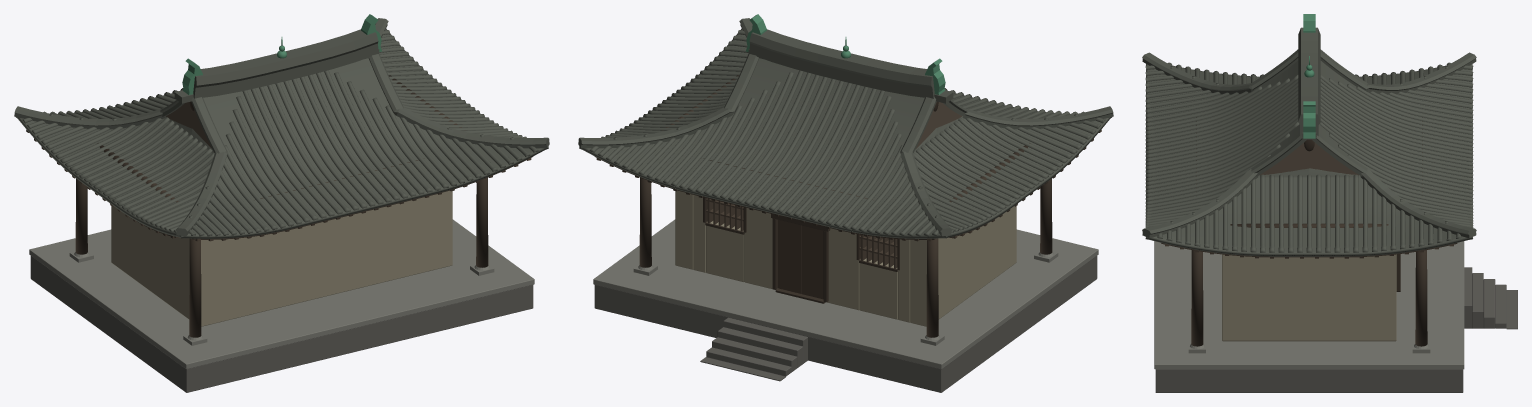
Rendered from wudai-01-tiantaian-mitudian.glb.
3 views of the same model, side by side, from view 1: azimuth 30°, elevation 25°; view 2: azimuth 150°, elevation 25°; view 3: azimuth 270°, elevation 25° (orthographic).
Parts seen in each view (by area): view 1: 屋面_瓦面, 台基_阶条石, 瓦垄_前后坡, 墙_后檐墙, 瓦垄_两山, 台基_台身, 垂脊_戗脊, 正脊, 墙_两山墙, 檐柱_西后, 檐柱_东后, 檐柱_西前 (+3 smaller); view 2: 屋面_瓦面, 台基_阶条石, 瓦垄_前后坡, 瓦垄_两山, 台基_台身, 墙_前檐墙, 墙_两山墙, 垂脊_戗脊, 正脊, 台基_踏跺, 门_门扇, 门_门框 (+8 smaller); view 3: 瓦垄_前后坡, 屋面_瓦面, 台基_阶条石, 墙_两山墙, 瓦垄_两山, 垂脊_戗脊, 台基_台身, 台基_踏跺, 正脊, 山花板_东, 檐柱_东前, 檐柱_东后 (+4 smaller).
Part boxes in pixels (bbox=[...]): 屋面_瓦面: bbox=[16, 28, 548, 238]; 台基_阶条石: bbox=[29, 219, 534, 369]; 瓦垄_前后坡: bbox=[43, 70, 538, 236]; 墙_后檐墙: bbox=[201, 190, 452, 326]; 瓦垄_两山: bbox=[22, 30, 526, 232]; 台基_台身: bbox=[30, 256, 533, 392]; 垂脊_戗脊: bbox=[14, 18, 549, 236]; 正脊: bbox=[193, 29, 378, 98]; 墙_两山墙: bbox=[111, 206, 189, 319]; 檐柱_西后: bbox=[189, 238, 201, 337]; 檐柱_东后: bbox=[476, 177, 488, 267]; 檐柱_西前: bbox=[75, 178, 87, 254]; 屋面_瓦面: bbox=[579, 28, 1111, 238]; 台基_阶条石: bbox=[593, 219, 1098, 369]; 瓦垄_前后坡: bbox=[589, 70, 1084, 236]; 瓦垄_两山: bbox=[601, 30, 1105, 232]; 台基_台身: bbox=[594, 256, 1097, 392]; 墙_前檐墙: bbox=[693, 195, 910, 322]; 墙_两山墙: bbox=[675, 190, 1016, 326]; 垂脊_戗脊: bbox=[578, 18, 1113, 236]; 正脊: bbox=[749, 29, 934, 98]; 台基_踏跺: bbox=[700, 317, 807, 381]; 门_门扇: bbox=[778, 219, 823, 299]; 门_门框: bbox=[771, 214, 830, 303]; 瓦垄_前后坡: bbox=[1145, 65, 1473, 227]; 屋面_瓦面: bbox=[1145, 61, 1472, 256]; 台基_阶条石: bbox=[1154, 241, 1464, 369]; 墙_两山墙: bbox=[1222, 254, 1396, 341]; 瓦垄_两山: bbox=[1157, 62, 1461, 252]; 垂脊_戗脊: bbox=[1142, 49, 1476, 238]; 台基_台身: bbox=[1155, 369, 1463, 392]; 台基_踏跺: bbox=[1464, 267, 1517, 329]; 正脊: bbox=[1298, 27, 1320, 136]; 山花板_东: bbox=[1260, 142, 1358, 175]; 檐柱_东前: bbox=[1415, 250, 1427, 346]; 檐柱_东后: bbox=[1191, 250, 1203, 346].
Size of the model in its own units: 11.21 by 7.38 by 9.9.
